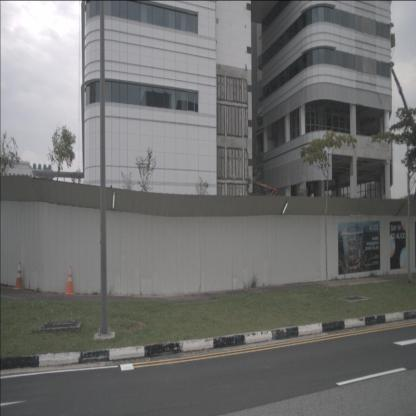cone: (13, 261, 24, 291), (65, 266, 74, 295)
